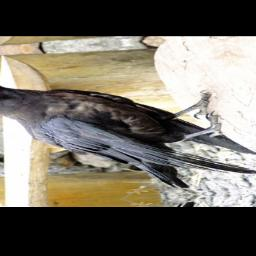Crow: (0, 55, 256, 200)
